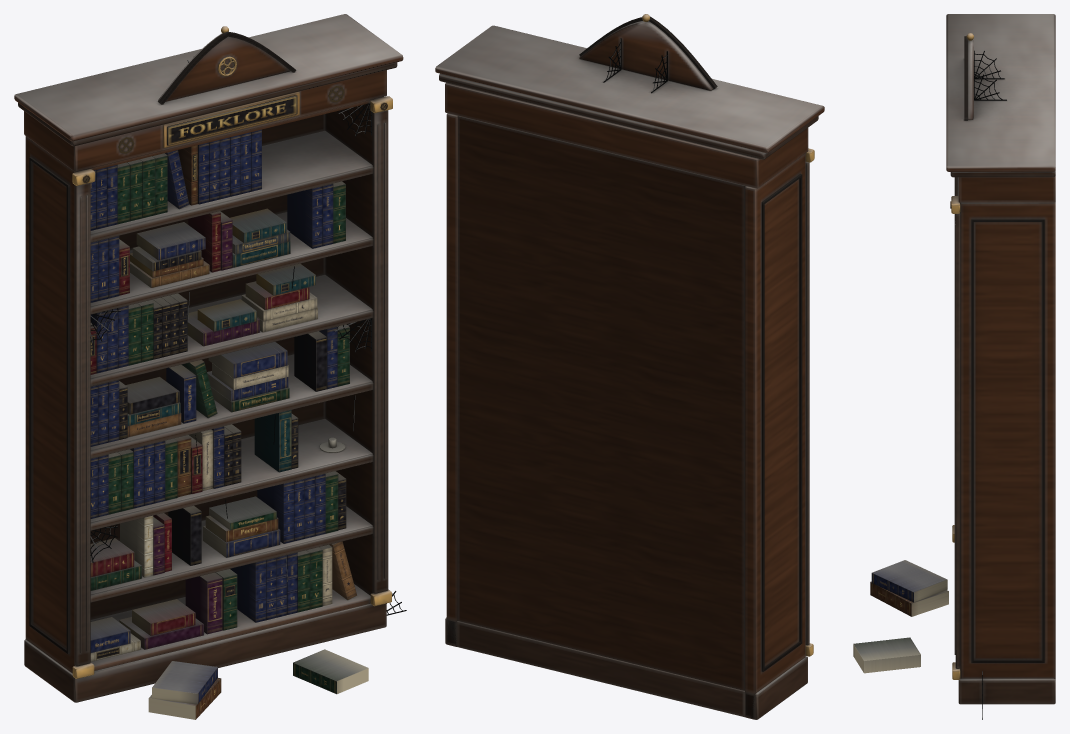
Rendered from ShelfDusty.fbx.
The picture shows the model from 3 angles, left to right: view 1: azimuth 30°, elevation 25°; view 2: azimuth 150°, elevation 25°; view 3: azimuth 270°, elevation 25°; orthographic projection. The views are drawn at different scales.
Parts seen in each view (by area): view 1: ShelfDusty; view 2: ShelfDusty; view 3: ShelfDusty.
Part boxes in pixels (bbox=[...]): ShelfDusty: bbox=[14, 14, 406, 719]; ShelfDusty: bbox=[435, 14, 824, 719]; ShelfDusty: bbox=[853, 14, 1055, 719].
Bounding box in the file's own units: 688 × 1178 × 360.
